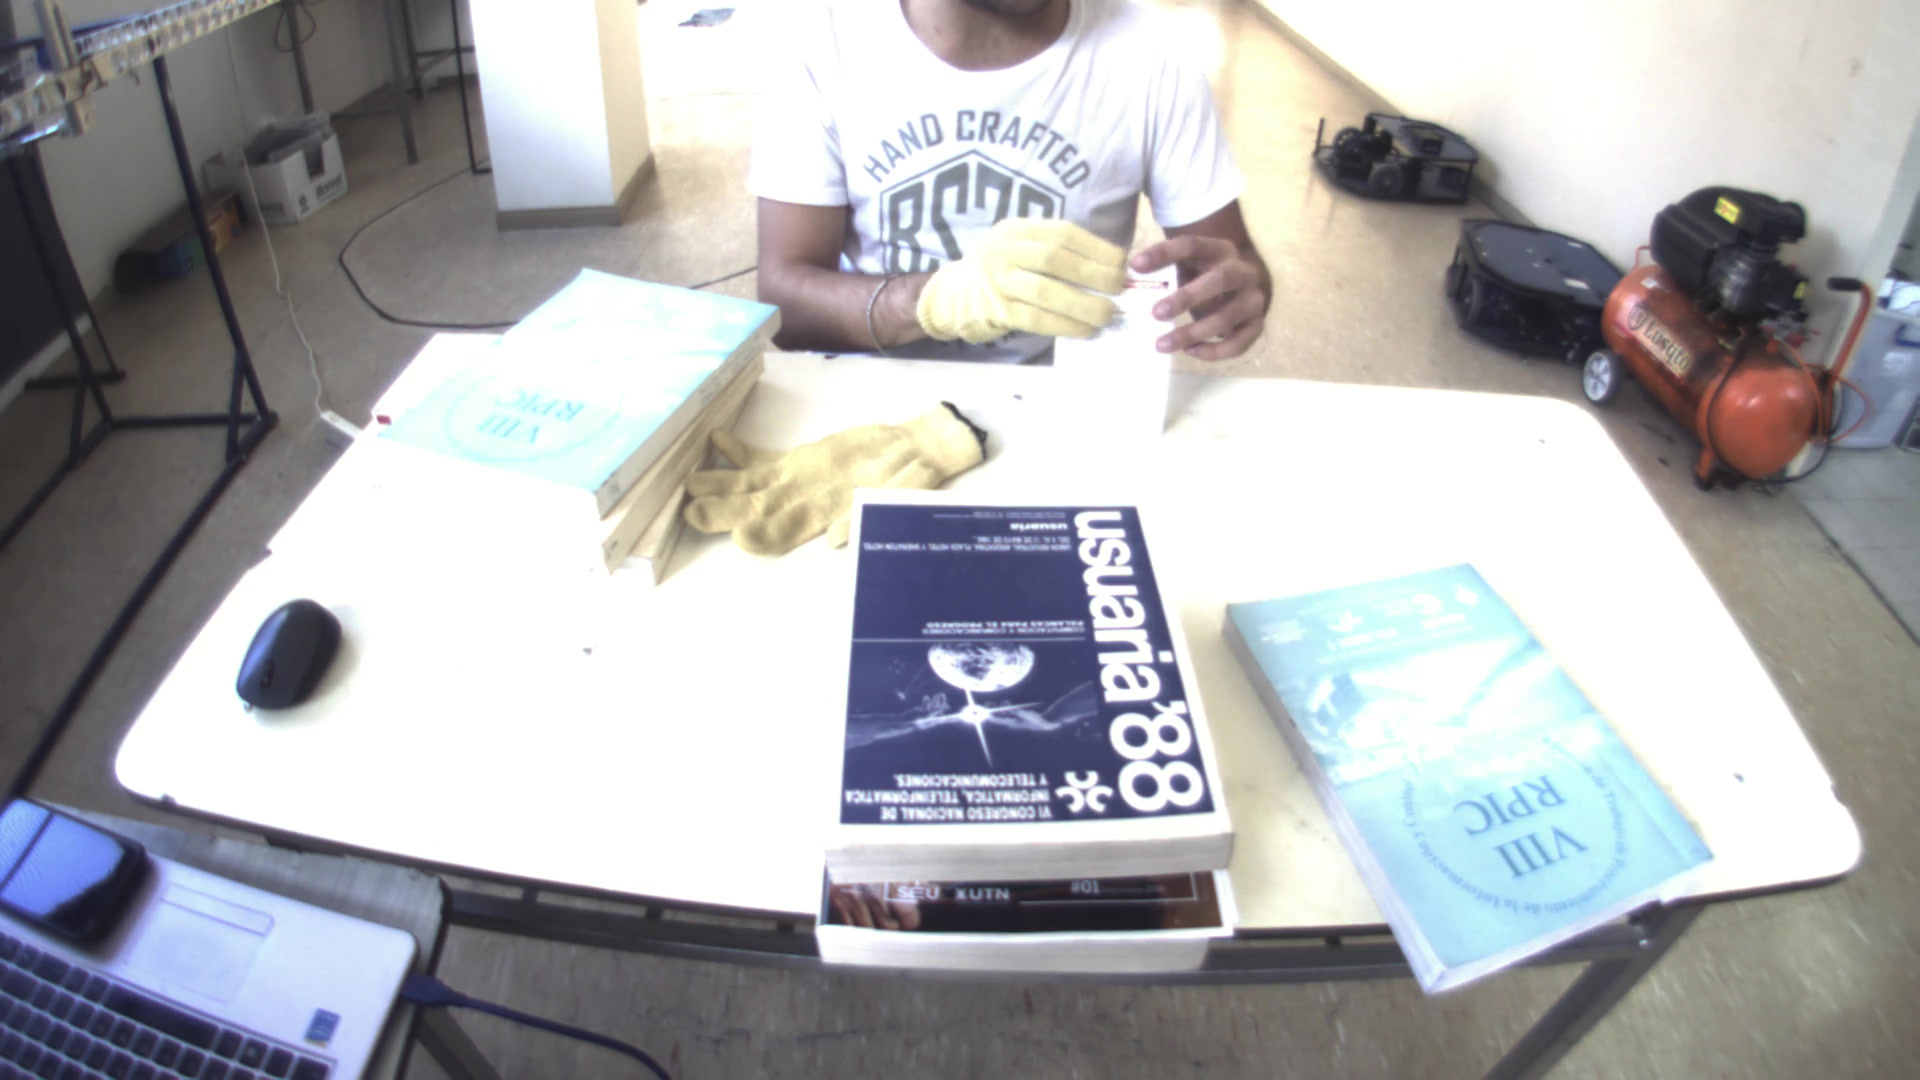hand: (909, 199, 1138, 347), (1137, 211, 1286, 363)
